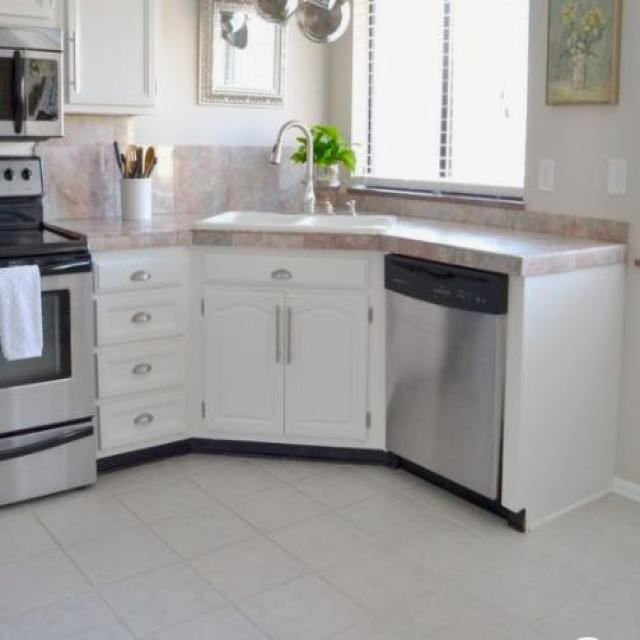dishwasher: (377, 245, 518, 510)
